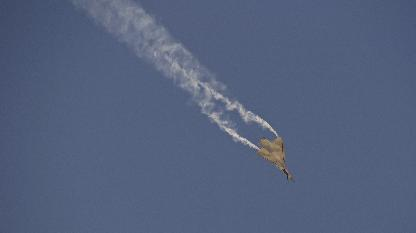Mirage2000: (256, 136, 294, 183)
